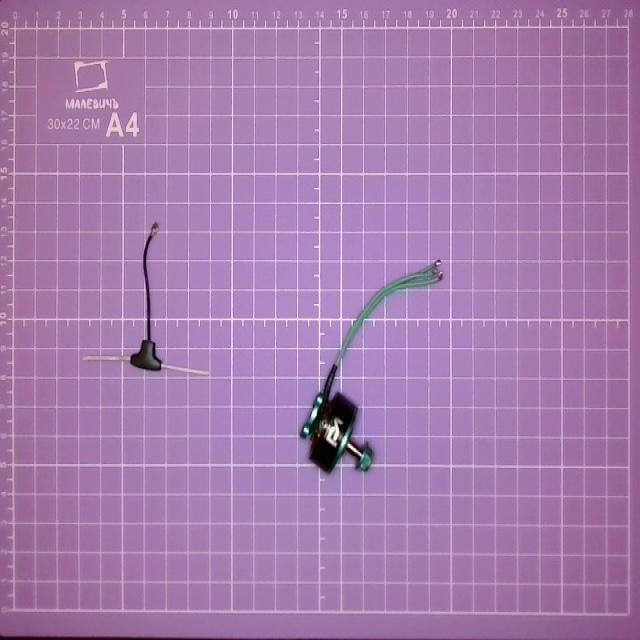antenna: (83, 224, 211, 376)
motor: (298, 259, 446, 474)
